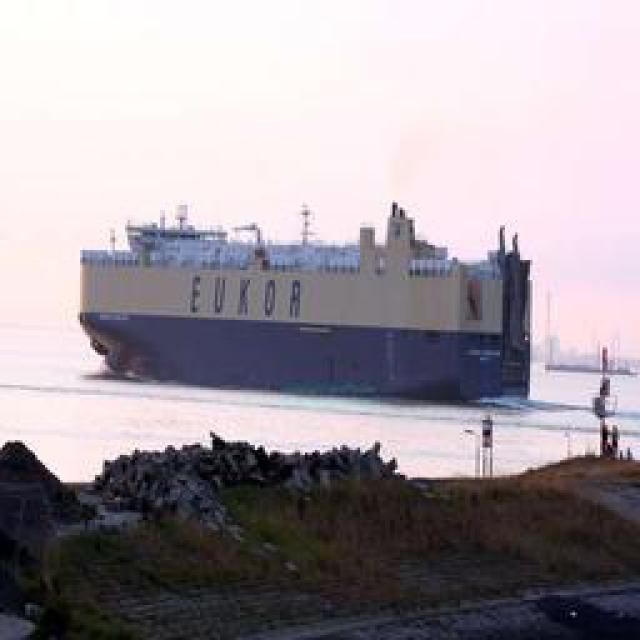Ship: (76, 197, 534, 390)
